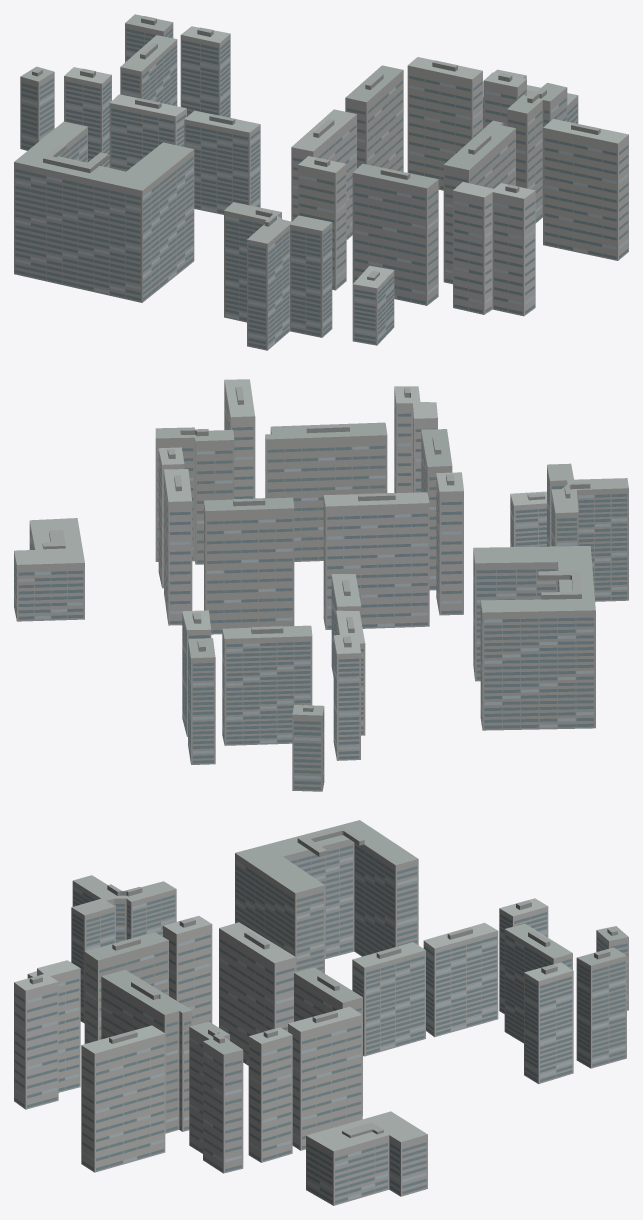
File: apt-a15380403.glb
3 views of the same model, one above another, from view 1: azimuth 30°, elevation 25°; view 2: azimuth 150°, elevation 25°; view 3: azimuth 270°, elevation 25° (orthographic). The views are drawn at different scales.
Visible parts, largest first — view 1: apt-a15380403; view 2: apt-a15380403; view 3: apt-a15380403.
Boxes of the visible parts, bbox=[...] form: apt-a15380403: bbox=[14, 14, 628, 350]; apt-a15380403: bbox=[14, 379, 628, 791]; apt-a15380403: bbox=[14, 820, 628, 1205].
Size of the model in its own units: 327 by 69 by 312.
